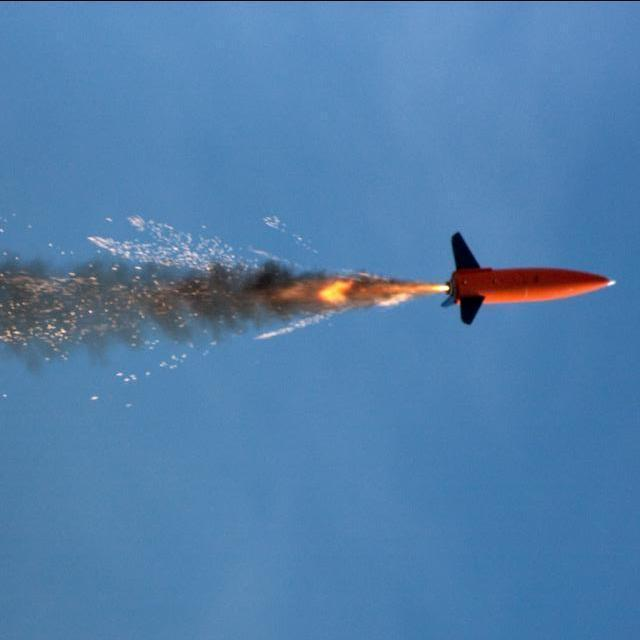missile: (448, 230, 618, 328)
